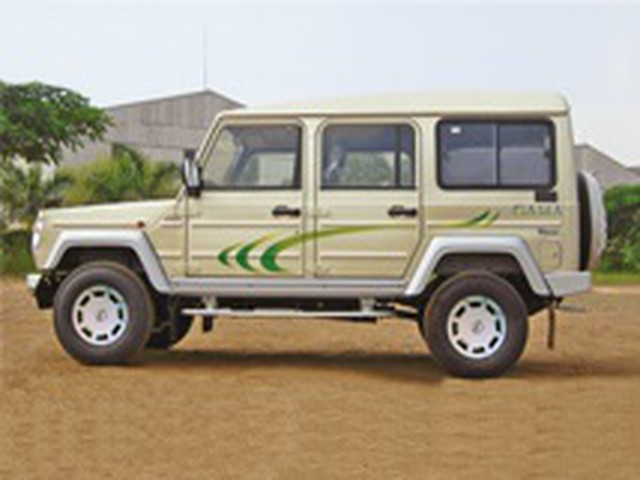Vehicle: (21, 85, 607, 380)
